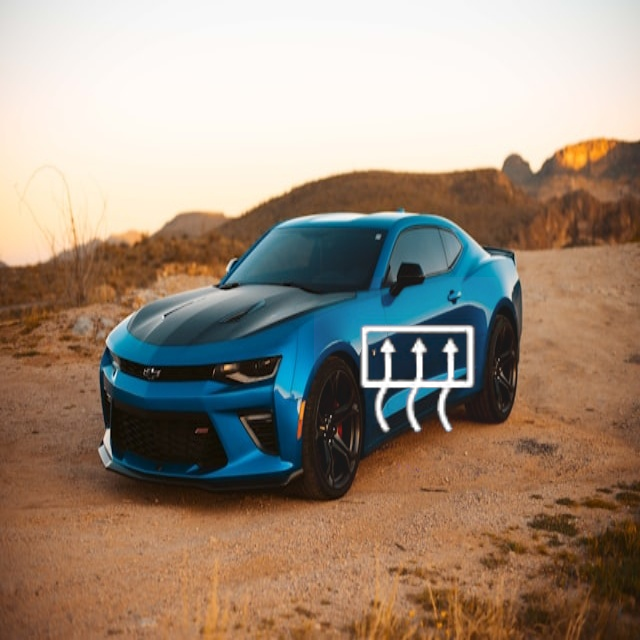symbol: (314, 277, 523, 486)
